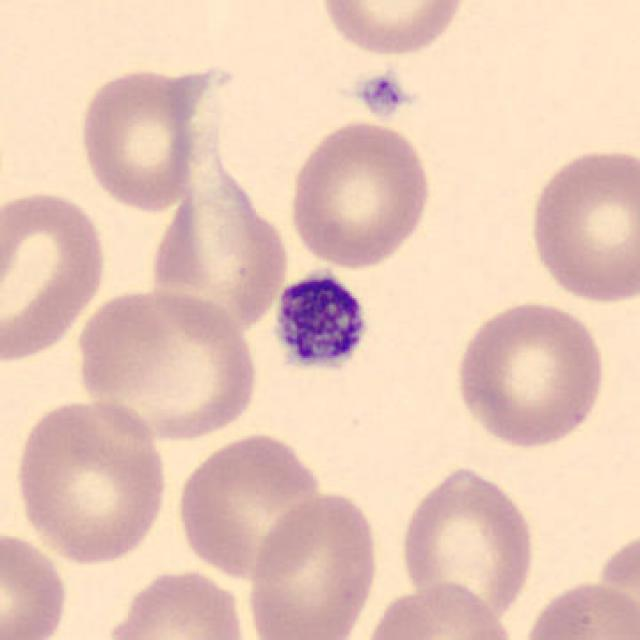Platelets: (267, 265, 373, 379), (354, 70, 409, 120)
RBC: (71, 284, 263, 444), (9, 395, 171, 568), (144, 152, 293, 340), (450, 296, 610, 452), (394, 460, 538, 628), (284, 115, 436, 272), (173, 430, 327, 584), (244, 488, 382, 640), (0, 185, 112, 367), (75, 64, 206, 214), (524, 139, 638, 307), (101, 564, 252, 640), (359, 578, 517, 640), (315, 0, 473, 60), (0, 527, 73, 640), (516, 575, 638, 640)
